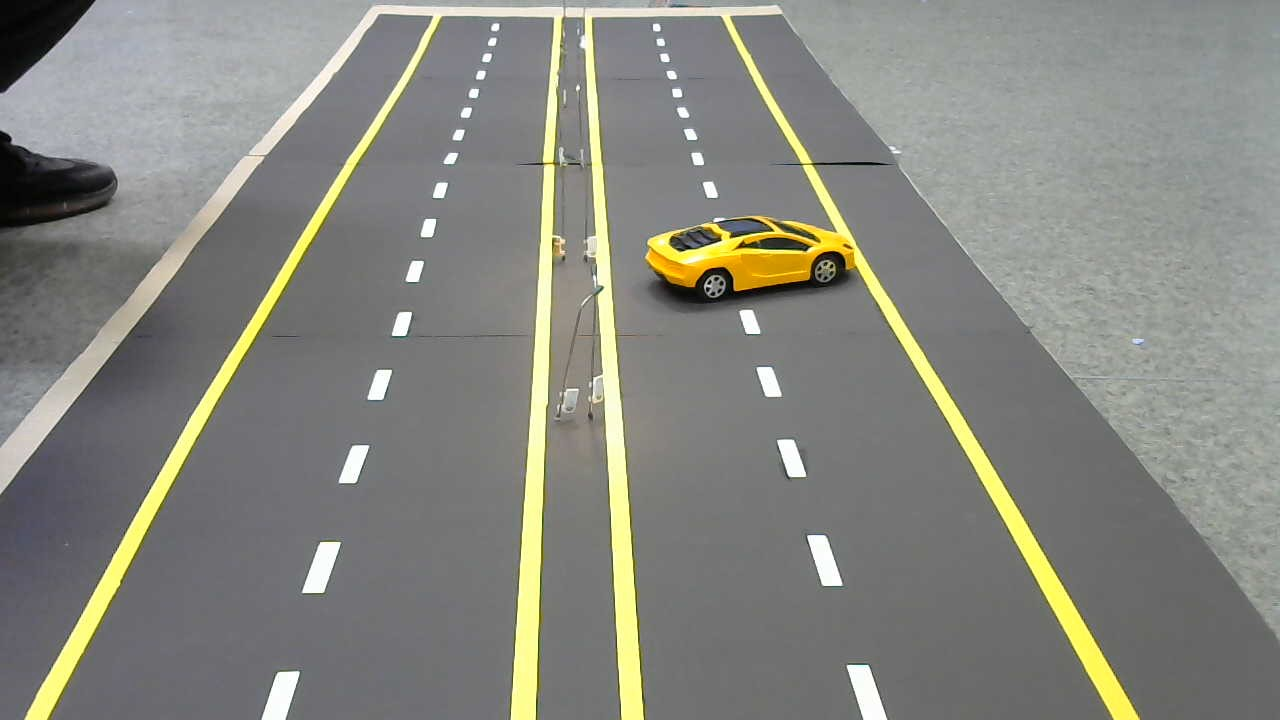overturn_car: (639, 212, 860, 302)
